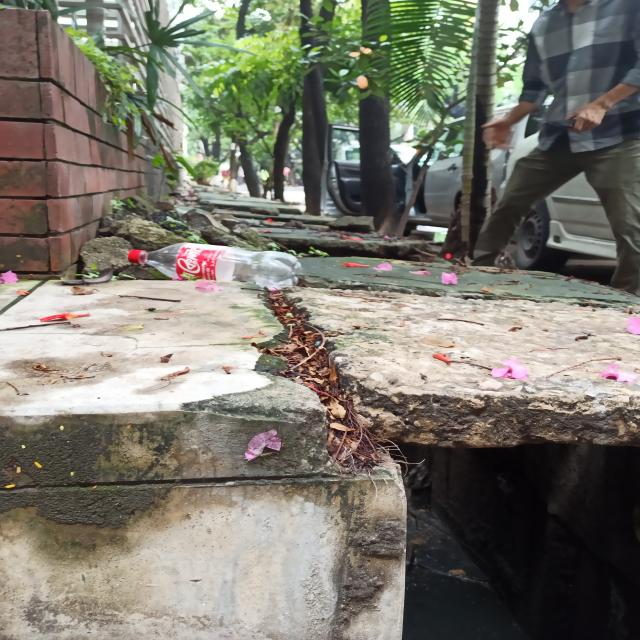artificial_container: (127, 242, 301, 289)
